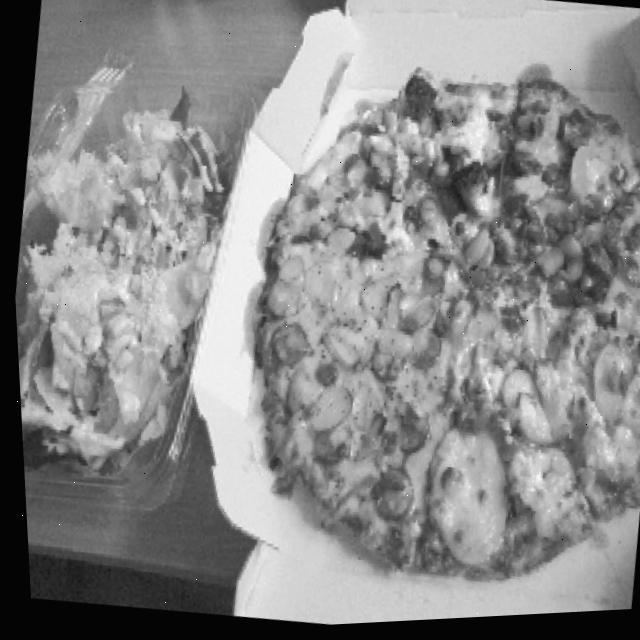汉堡快餐: (213, 28, 640, 617)
蔬菜料理: (3, 67, 255, 489)
